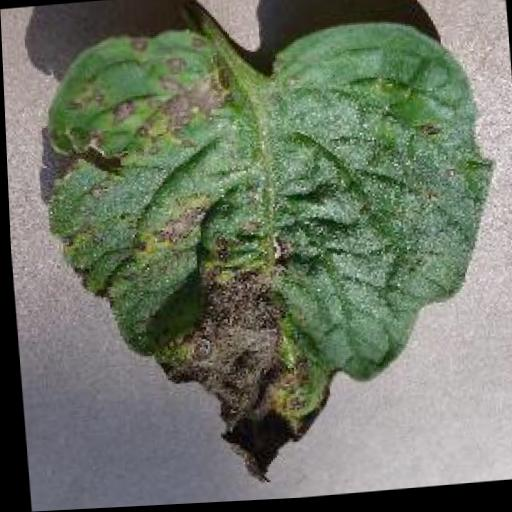Early Blight: (37, 6, 507, 500)
